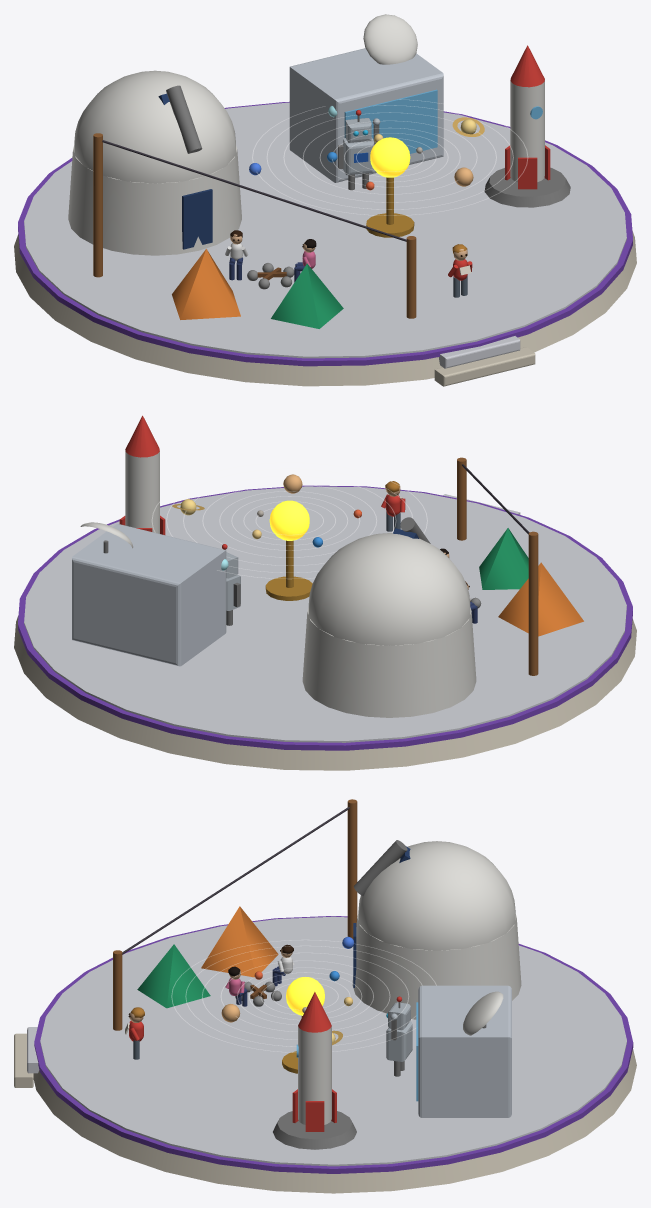
The model's file is space.glb.
3 views of the same model, one above another, from view 1: azimuth 30°, elevation 25°; view 2: azimuth 150°, elevation 25°; view 3: azimuth 270°, elevation 25° (orthographic). The views are drawn at different scales.
Visible parts, largest first — view 1: part_000, part_003, part_035, part_006, part_004, part_001; view 2: part_000, part_003, part_006, part_004, part_035; view 3: part_000, part_003, part_035, part_006, part_001.
Boxes of the visible parts, x1,y1,x2,y2 form: part_000: (14, 14, 636, 386); part_003: (74, 70, 235, 183); part_035: (338, 110, 374, 190); part_006: (370, 137, 410, 177); part_004: (366, 177, 414, 237); part_001: (102, 140, 406, 241); part_000: (14, 415, 636, 770); part_003: (308, 517, 470, 645); part_006: (269, 500, 309, 540); part_004: (265, 540, 312, 600); part_035: (222, 544, 240, 625); part_000: (14, 799, 636, 1193); part_003: (353, 840, 515, 950); part_035: (386, 996, 412, 1076); part_006: (286, 977, 324, 1015); part_001: (122, 807, 349, 954).
Bounding box in the file's own units: 12.92 × 3.99 × 13.27.
